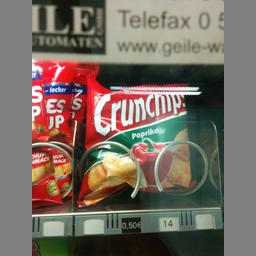chips: (84, 76, 198, 198)
